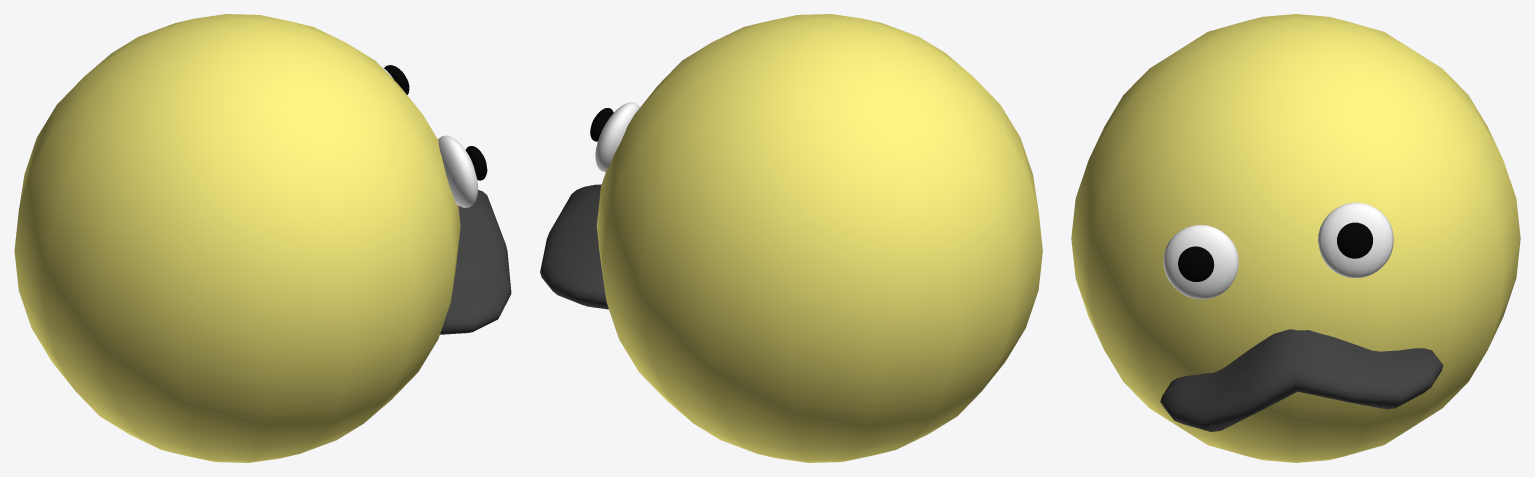
Rendered from moon_.fbx.
3 renders of one model, left to right at view 1: azimuth 30°, elevation 25°; view 2: azimuth 150°, elevation 25°; view 3: azimuth 270°, elevation 25°, orthographic.
Visible parts, largest first — view 1: moon; view 2: moon; view 3: moon.
Boxes of the visible parts, x1,y1,x2,y2 form: moon: (14,14,511,462); moon: (540,14,1042,462); moon: (1071,14,1520,462).
Size of the model in its own units: 307 by 351 by 307.
